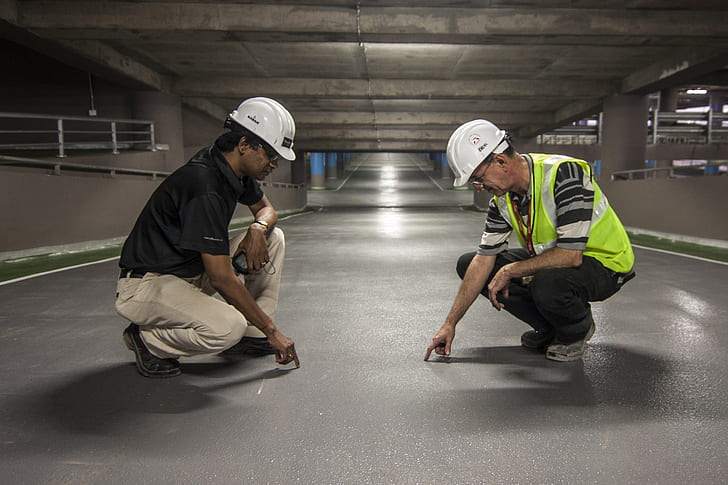Hard Hat: (212, 97, 297, 180), (443, 119, 527, 199)
Person: (112, 95, 302, 377), (423, 117, 637, 362)
Vest: (466, 146, 635, 275)
